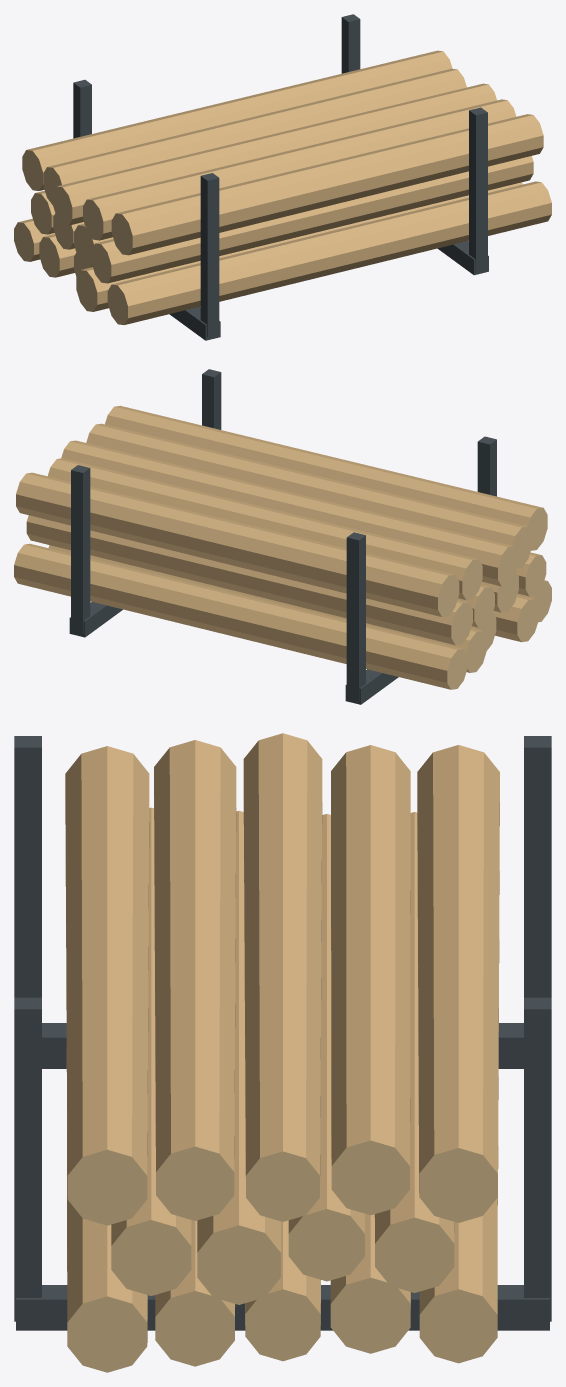
File: log_pile_debarked.glb
3 views of the same model, one above another, from view 1: azimuth 30°, elevation 25°; view 2: azimuth 150°, elevation 25°; view 3: azimuth 270°, elevation 25° (orthographic). The views are drawn at different scales.
Visible parts, largest first — view 1: log_pile_debarked; view 2: log_pile_debarked; view 3: log_pile_debarked.
Part boxes in pixels (box(x1,y1,x2,y2)): log_pile_debarked: box(14, 14, 551, 340); log_pile_debarked: box(14, 369, 551, 704); log_pile_debarked: box(14, 733, 551, 1372).
Bounding box in the file's own units: 5.84 × 2.05 × 3.12.
